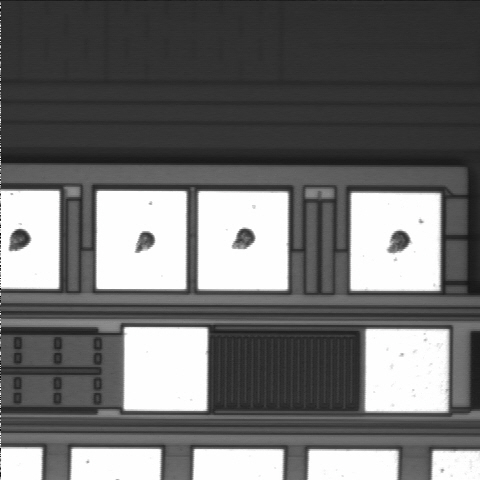pad: (198, 191, 288, 290), (96, 191, 186, 289), (351, 193, 440, 291), (124, 327, 207, 411), (365, 329, 448, 412)
